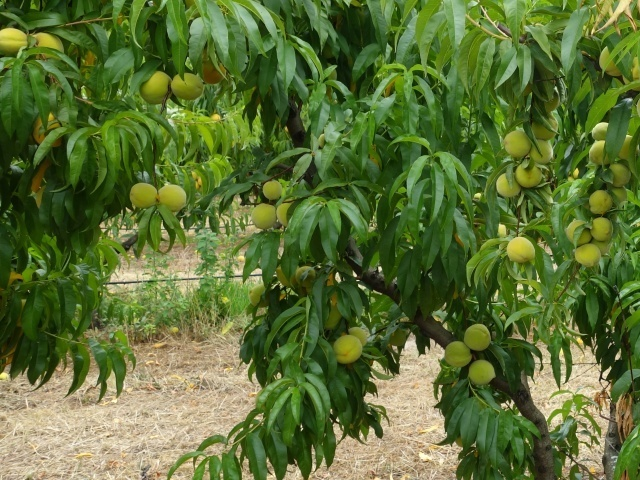peach: (26, 109, 68, 153), (137, 68, 175, 109), (168, 69, 207, 106), (29, 30, 68, 64), (504, 234, 539, 270), (595, 40, 626, 80), (460, 320, 495, 355), (330, 332, 365, 366), (500, 127, 534, 162), (124, 181, 161, 213), (491, 167, 525, 201), (438, 338, 474, 370), (1, 23, 31, 61), (155, 181, 189, 214), (465, 358, 498, 390), (563, 215, 596, 247), (512, 161, 546, 192), (246, 201, 282, 229), (524, 135, 556, 165), (572, 240, 603, 270), (586, 215, 616, 246), (343, 320, 372, 351), (532, 111, 563, 140), (535, 87, 566, 116), (585, 187, 616, 216), (585, 137, 615, 166), (271, 262, 302, 287), (269, 201, 297, 228), (604, 159, 632, 186), (588, 120, 616, 147), (244, 284, 273, 310), (257, 177, 284, 203), (291, 266, 319, 289), (602, 181, 630, 204), (385, 327, 409, 349)
